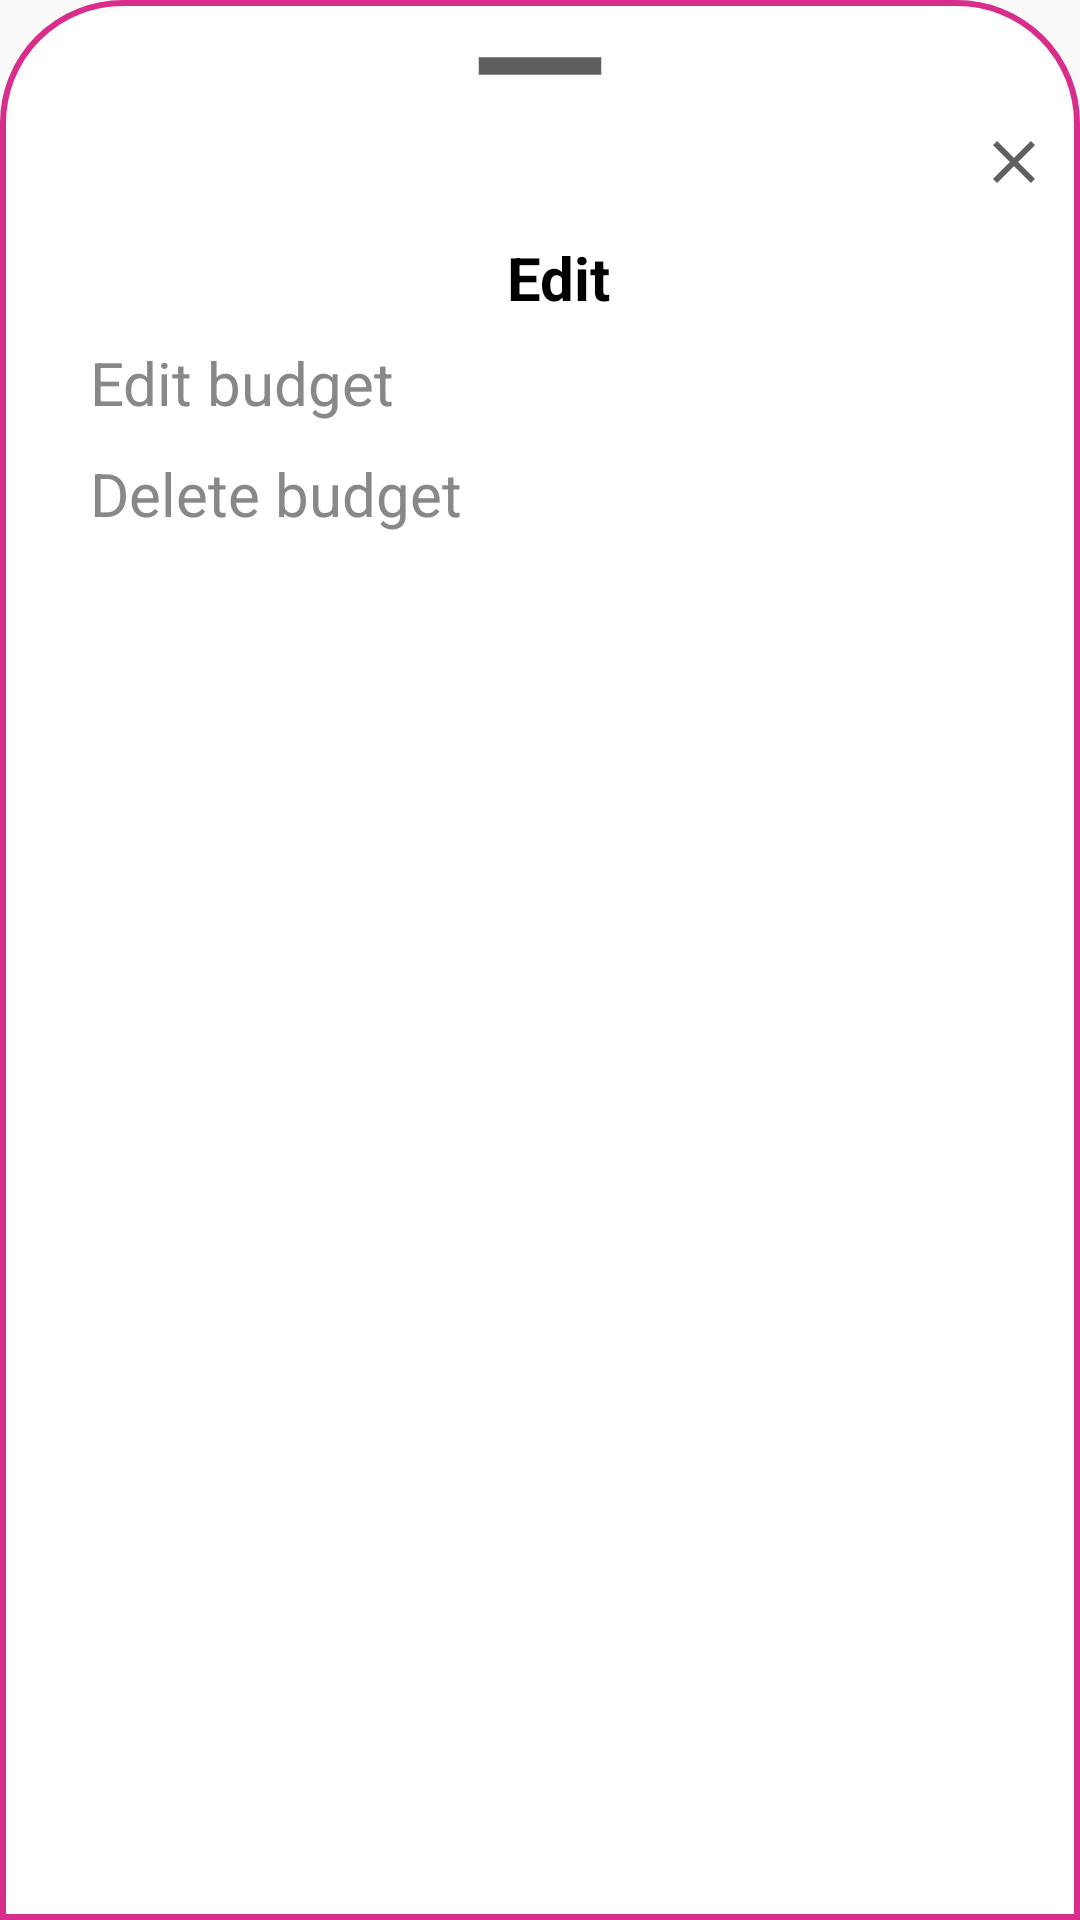

Screen size 1080 x 1920. Icon name, then its box in pixels as (x1, y1, x2, y2):
clear: (993, 141, 1035, 183)
